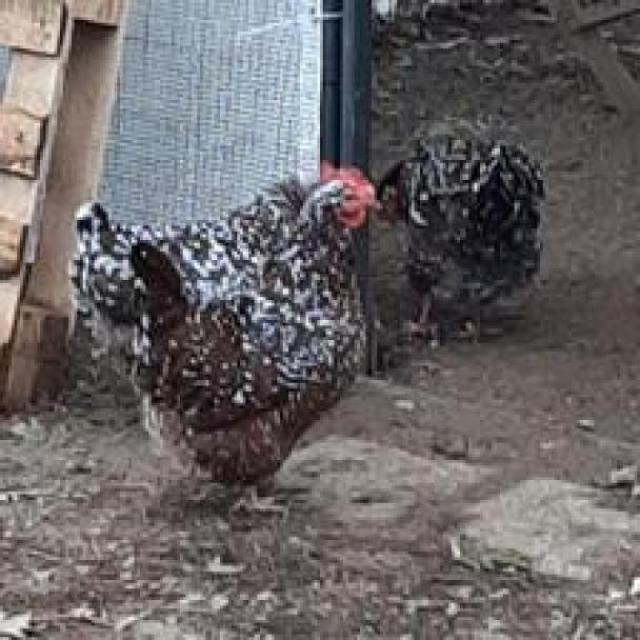Chicken: (77, 153, 399, 522)
